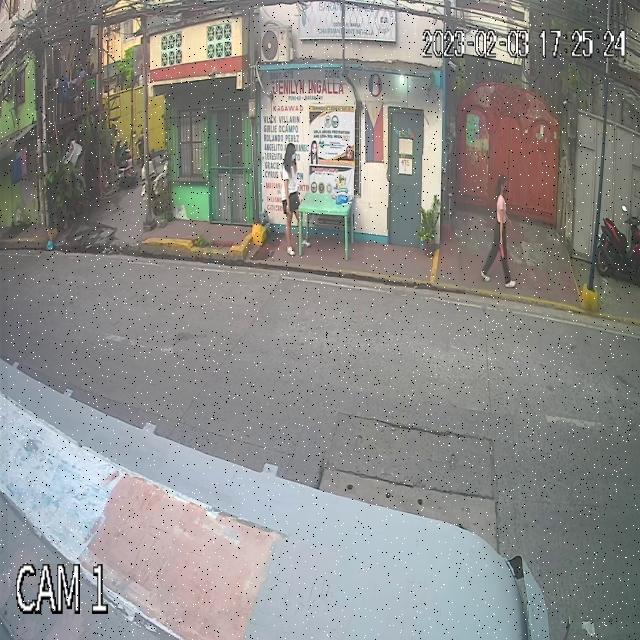human: (482, 173, 516, 290)
trash: (498, 240, 506, 260)
